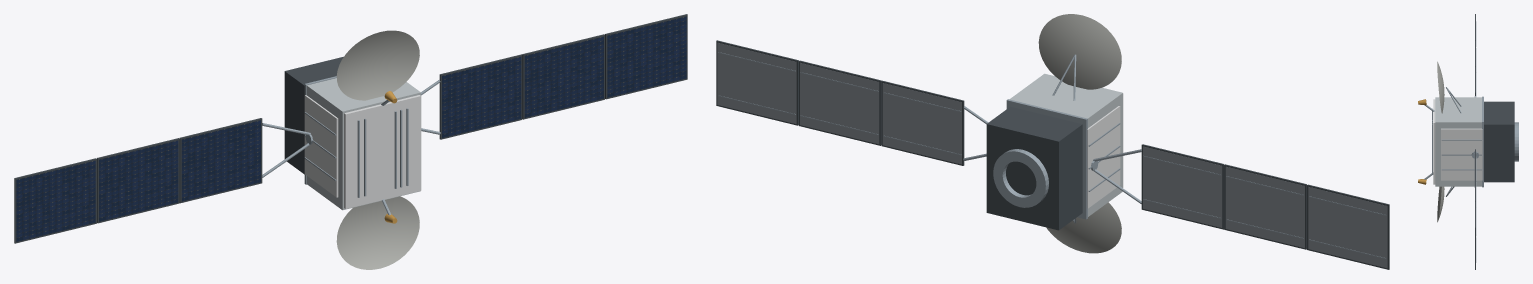
Rendered from boeing-702sp-ses-cband.glb.
The picture shows the model from 3 angles, left to right: view 1: azimuth 30°, elevation 25°; view 2: azimuth 150°, elevation 25°; view 3: azimuth 270°, elevation 25°; orthographic projection. The views are drawn at different scales.
Parts seen in each view (by area): view 1: Solar cell panel (×6), Communications reflector (×2), Earth-facing deck, Solar panel frame (×6), Payload module, Radiator face, Service module; view 2: Rear array substrate (×6), Service module, Communications reflector (×2), Solar panel frame (×6), Payload module, Radiator face, Launch adapter ring, Module interface; view 3: Service module, Radiator face, Payload module, Communications reflector (×2), Earth-facing deck, Launch adapter ring, Module interface, Radiator seam (×2).
Part boxes in pixels (bbox=[...]): Solar cell panel (×6): bbox=[16, 16, 686, 241]; Communications reflector (×2): bbox=[336, 30, 419, 269]; Earth-facing deck: bbox=[344, 95, 421, 208]; Solar panel frame (×6): bbox=[14, 14, 687, 243]; Payload module: bbox=[306, 78, 420, 210]; Radiator face: bbox=[304, 95, 338, 197]; Service module: bbox=[284, 56, 343, 174]; Rear array substrate (×6): bbox=[717, 42, 1387, 268]; Service module: bbox=[986, 106, 1082, 230]; Communications reflector (×2): bbox=[1038, 14, 1121, 253]; Solar panel frame (×6): bbox=[716, 40, 1389, 269]; Payload module: bbox=[1009, 73, 1122, 216]; Radiator face: bbox=[1087, 106, 1120, 208]; Launch adapter ring: bbox=[993, 149, 1048, 207]; Module interface: bbox=[1006, 99, 1087, 219]; Service module: bbox=[1484, 101, 1514, 182]; Radiator face: bbox=[1441, 128, 1482, 180]; Payload module: bbox=[1435, 97, 1481, 186]; Communications reflector (×2): bbox=[1437, 61, 1444, 222]; Earth-facing deck: bbox=[1433, 99, 1435, 184]; Launch adapter ring: bbox=[1514, 122, 1518, 161]; Module interface: bbox=[1482, 96, 1483, 187]; Radiator seam (×2): bbox=[1441, 139, 1481, 170].
Bounding box in the file's own units: 29.96 × 10.07 × 5.98.
Materials: 8 (1 with a texture image).
